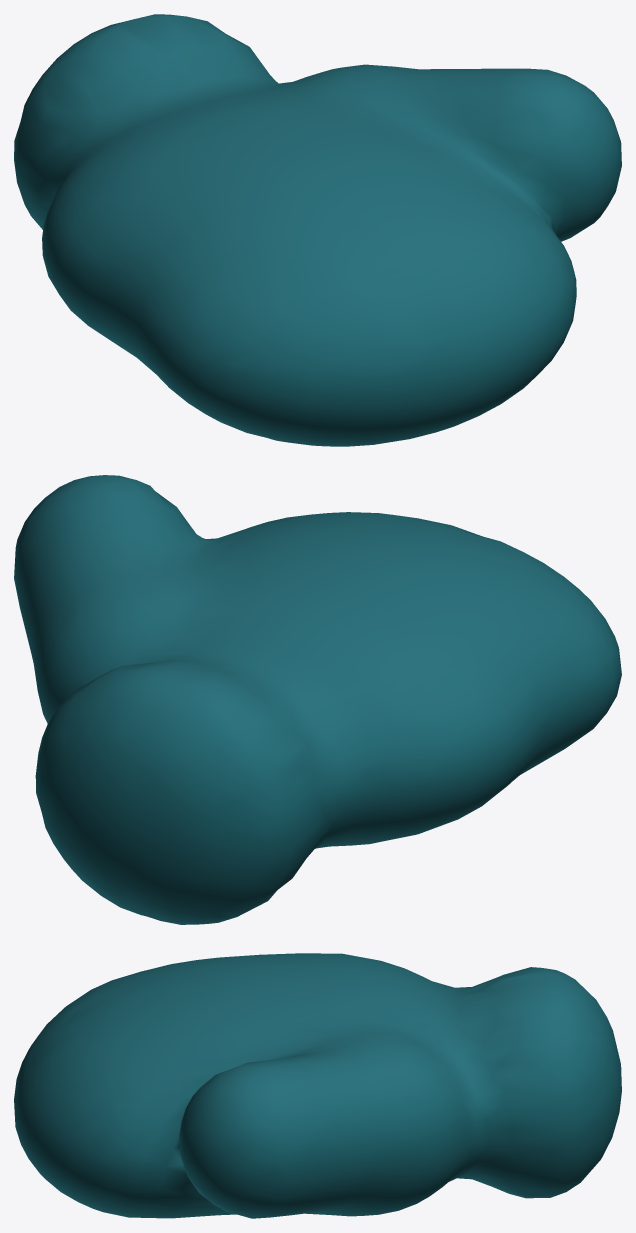
File: umibozu-hand.glb
3 renders of one model, top to bottom at view 1: azimuth 30°, elevation 25°; view 2: azimuth 150°, elevation 25°; view 3: azimuth 270°, elevation 25°, orthographic. The views are drawn at different scales.
Visible parts, largest first — view 1: body; view 2: body; view 3: body.
Part boxes in pixels (x1=…): body: x1=14, y1=14, x2=621, y2=446; body: x1=14, y1=475, x2=621, y2=924; body: x1=14, y1=953, x2=621, y2=1218.
Bounding box in the file's own units: 2.02 × 0.9252 × 2.4.
